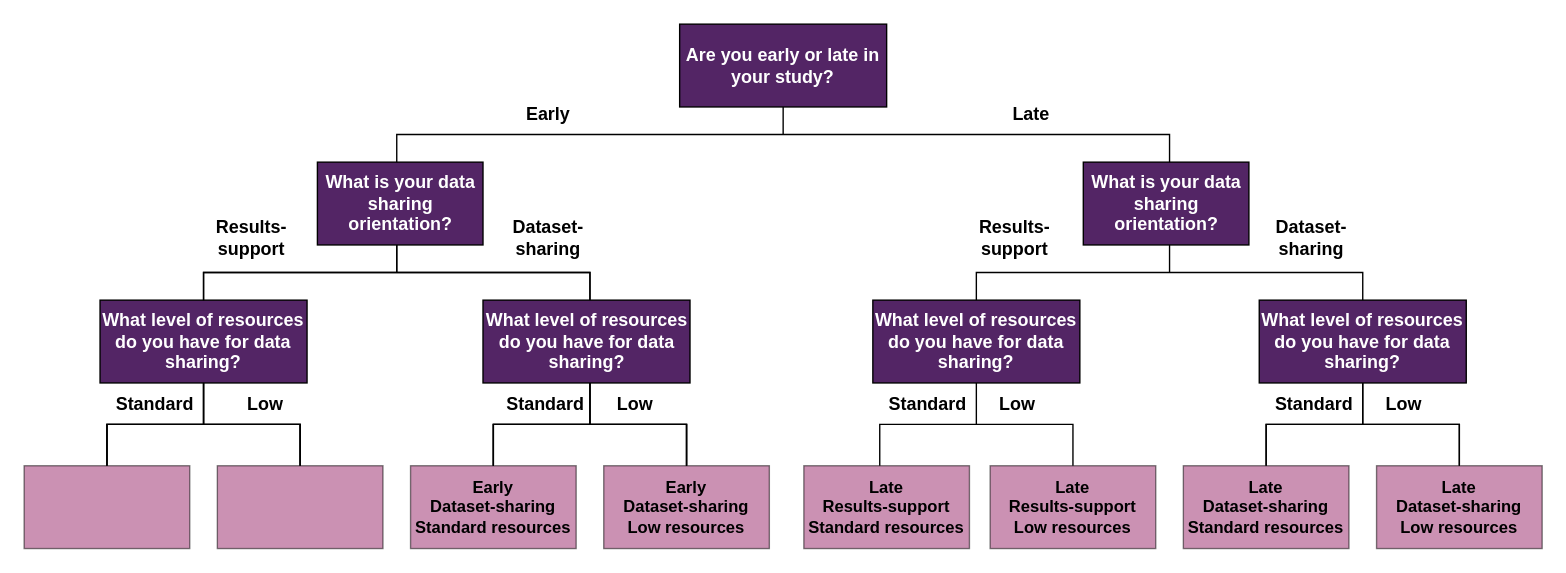
The diagram is 1566 pixels wide and 573 high, and some of its shapes have lost their labels. Each missing label, with the box of its shape:
Early Results-support Low resources: (216, 464, 383, 549)
Early Results-support Standard resources: (23, 464, 190, 549)
